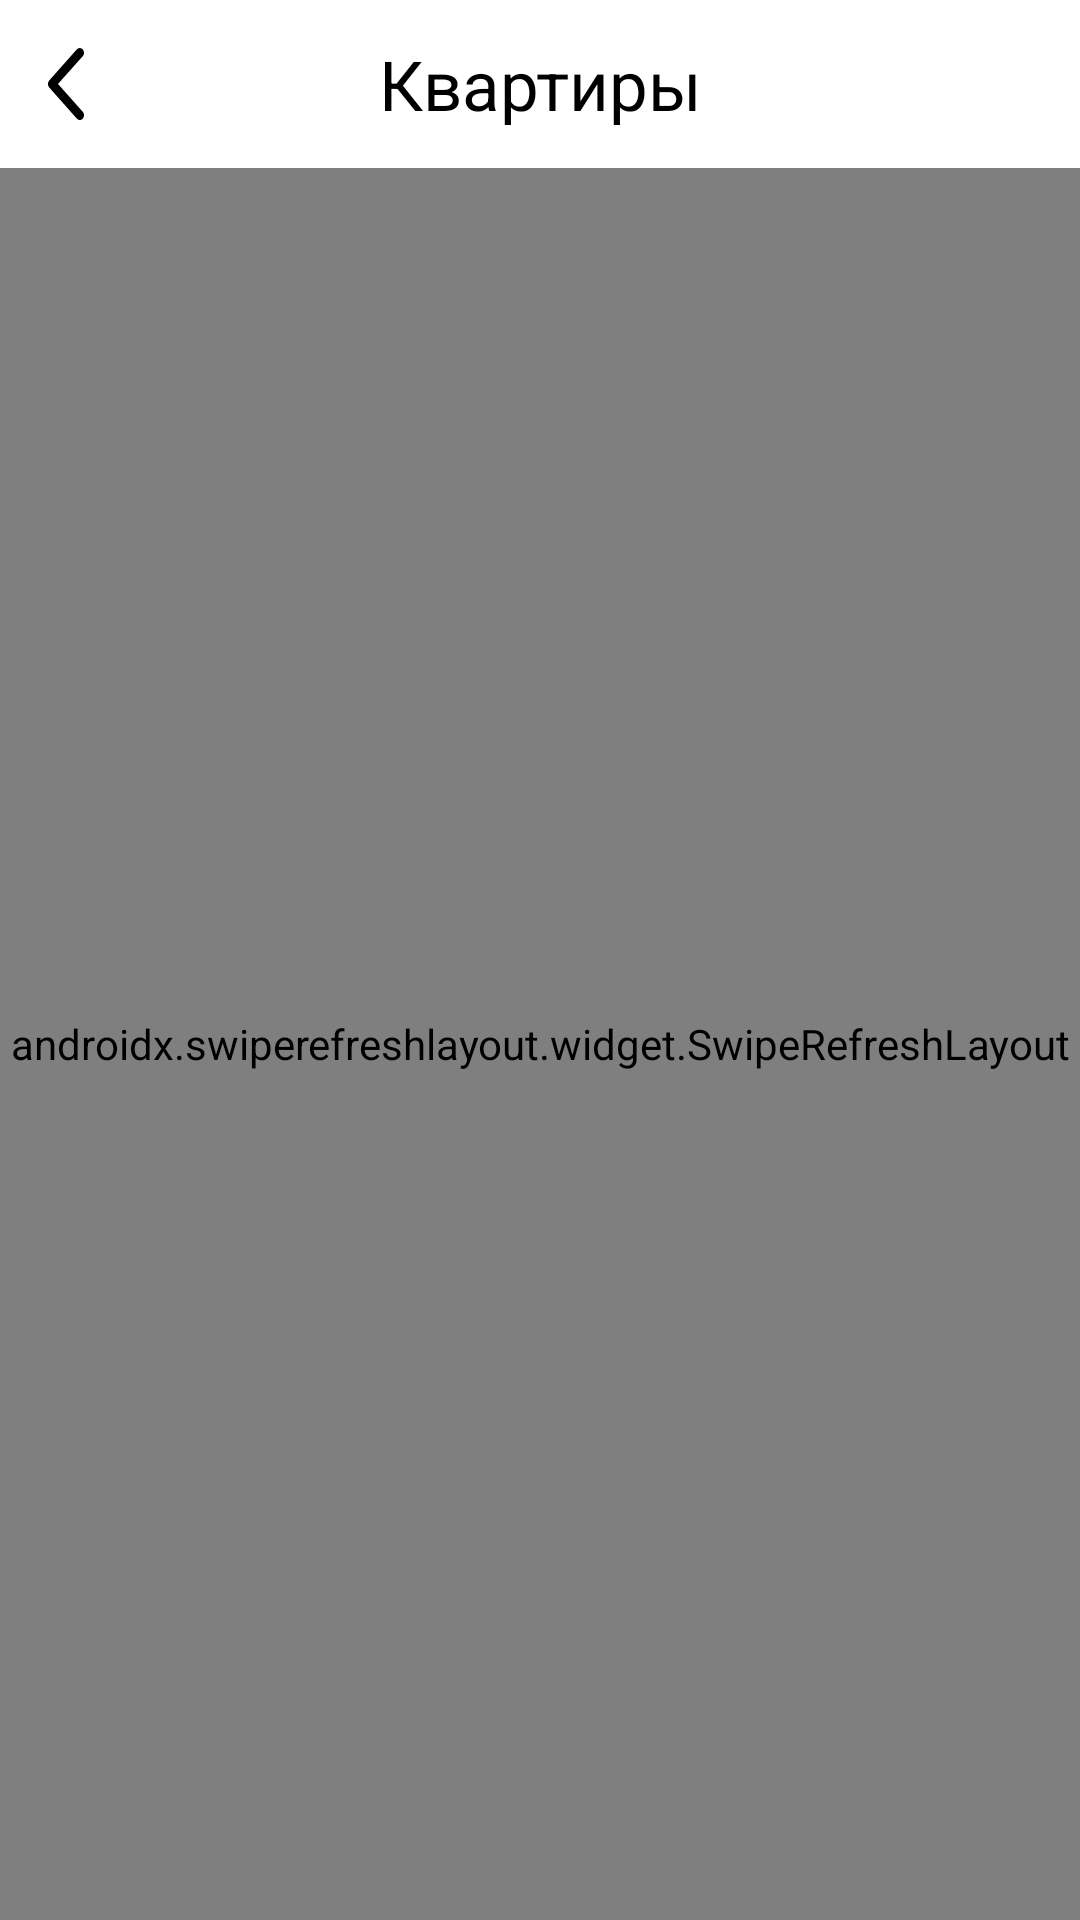

Screen size 1080w x 1920h. Icon name, then its box in pixels as region(x1, y1, x2, y2):
back: region(48, 48, 84, 120)
